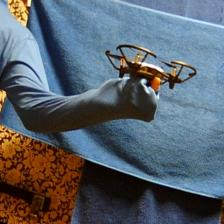drone: (105, 44, 198, 94)
